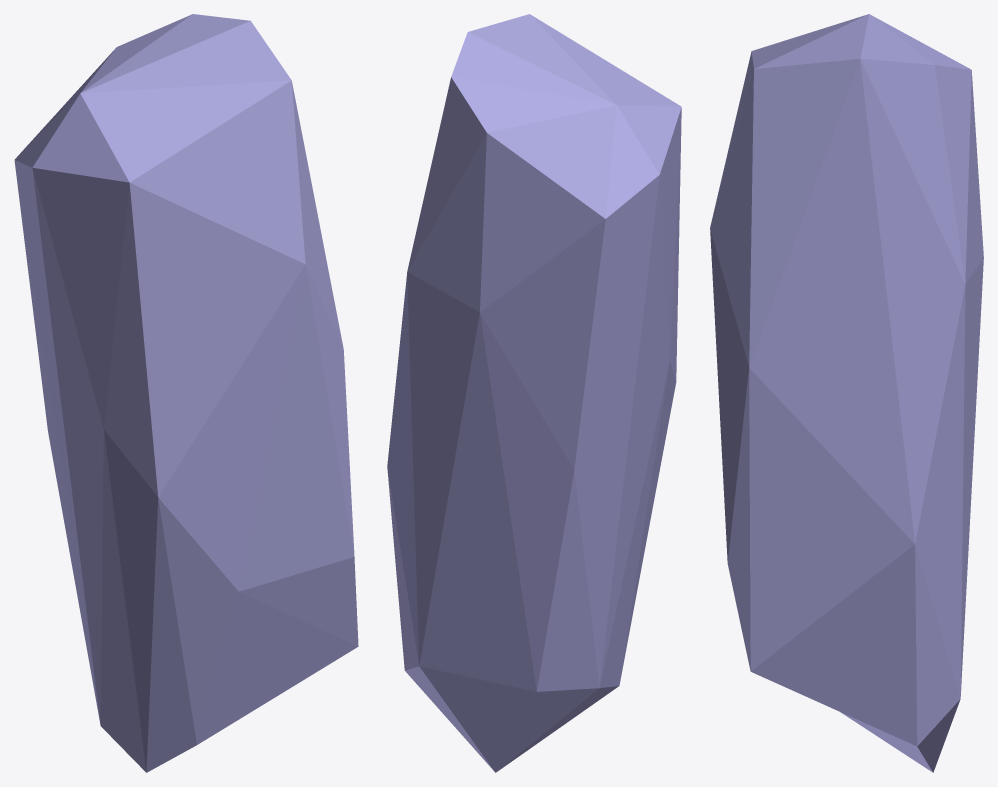
File: Crystal_01.fbx
The picture shows the model from 3 angles, left to right: view 1: azimuth 30°, elevation 25°; view 2: azimuth 150°, elevation 25°; view 3: azimuth 270°, elevation 25°; orthographic projection. The views are drawn at different scales.
Parts seen in each view (by area): view 1: Crystal_01; view 2: Crystal_01; view 3: Crystal_01.
Boxes of the visible parts, bbox=[...] form: Crystal_01: bbox=[14, 14, 358, 772]; Crystal_01: bbox=[387, 14, 681, 772]; Crystal_01: bbox=[710, 14, 983, 772].
Size of the model in its own units: 1.49 by 3.96 by 1.32.
